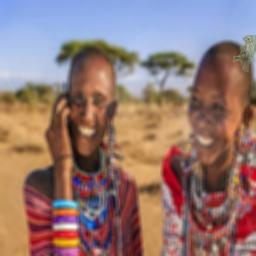Sparrow: (233, 35, 256, 72)
